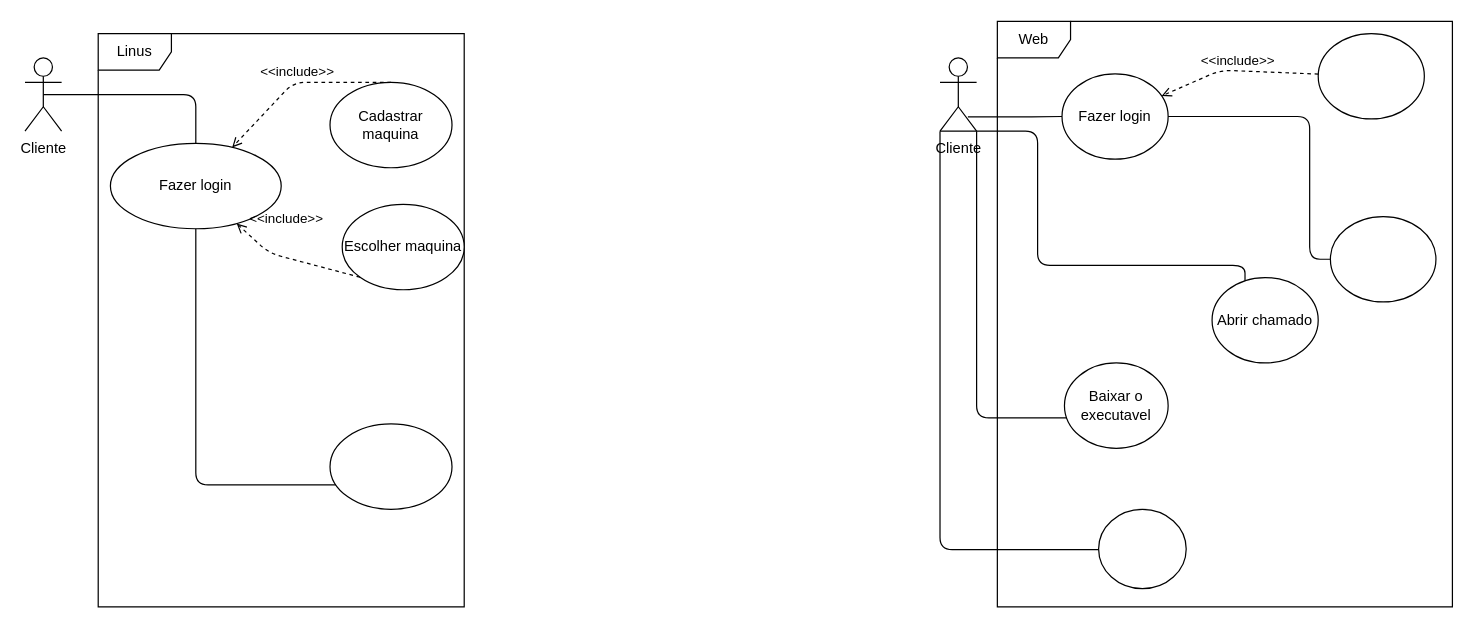
The diagram is 1474 pixels wide and 628 high, and some of its shapes have lost their labels. The centre of each missing label's shape, as x and y in pixels:
"Analisar uso das maquinas" belongs at (1382,258).
"Cadastrar novo usuario" belongs at (1141,548).
"Filtrar maquinas" belongs at (1370,75).
"Verificar uso da maquina" belongs at (390,466).
